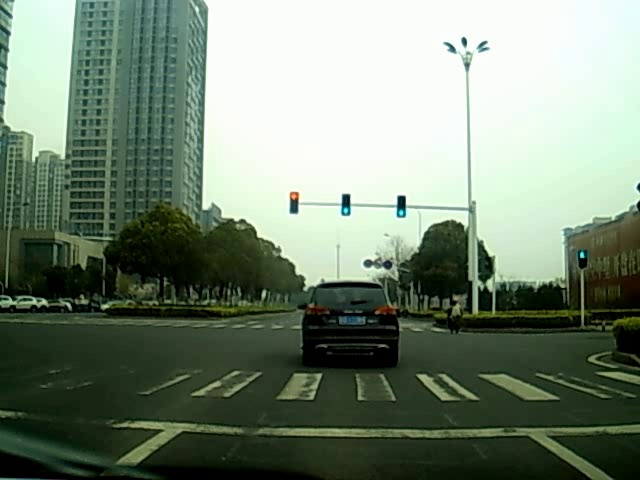Traffic_Light_go: (397, 196, 407, 220), (343, 194, 349, 214)
Traffic_Light_stop: (289, 192, 299, 214)
